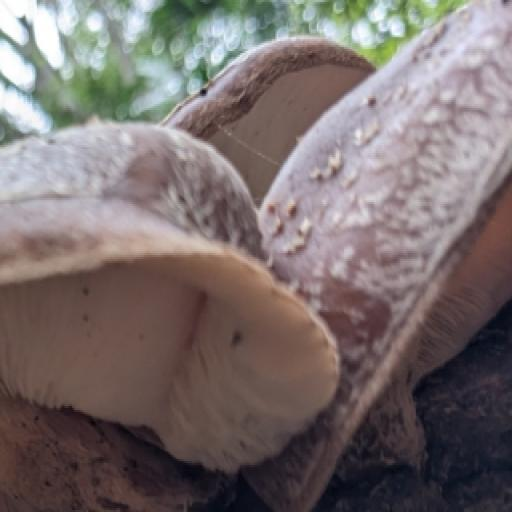Shiitake Mushroom: (3, 1, 510, 508)
